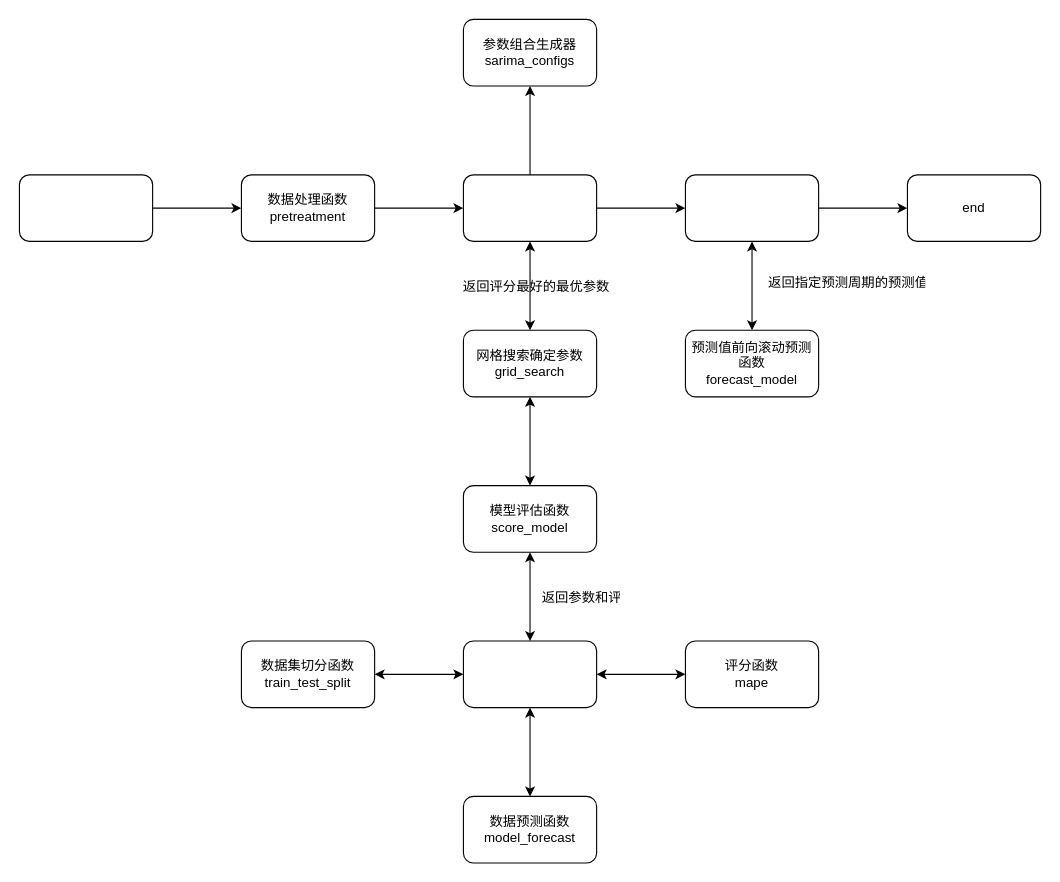
Image size: 1060x882. Some labels were removed from this diagram. The shapes that lost their labels are listed below. From the top down, each one's centre as x and y in pixels, then its label:
At pixel 85 207: "main".
At pixel 529 207: "参数训练函数 train_model".
At pixel 751 207: "预测函数 forecast_model".
At pixel 529 674: "测试数据前向滚动预测函数 forward_valid".
